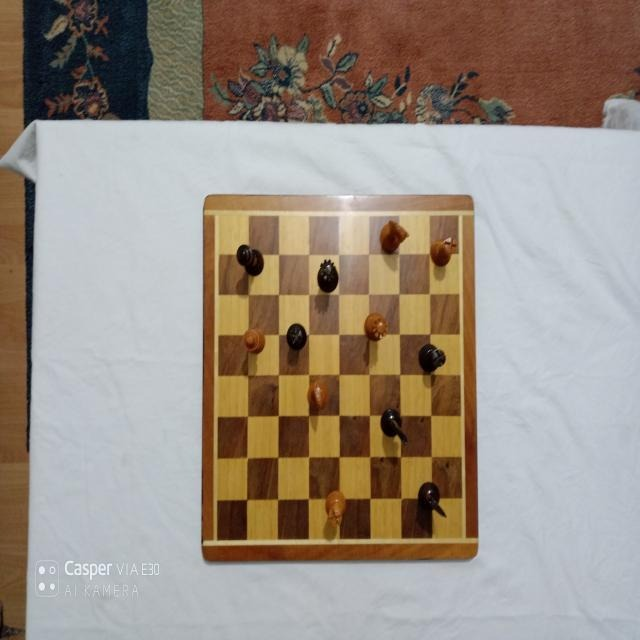black-king: (236, 243, 264, 276)
black-knight: (417, 481, 447, 519), (381, 407, 409, 446)
black-queen: (317, 258, 339, 293)
black-rook: (418, 343, 446, 373), (285, 322, 307, 351)
white-king: (242, 327, 265, 355)
white-knight: (380, 219, 408, 252), (307, 381, 329, 411)
white-queen: (363, 312, 388, 342)
white-rook: (430, 235, 458, 266), (325, 489, 347, 527)
